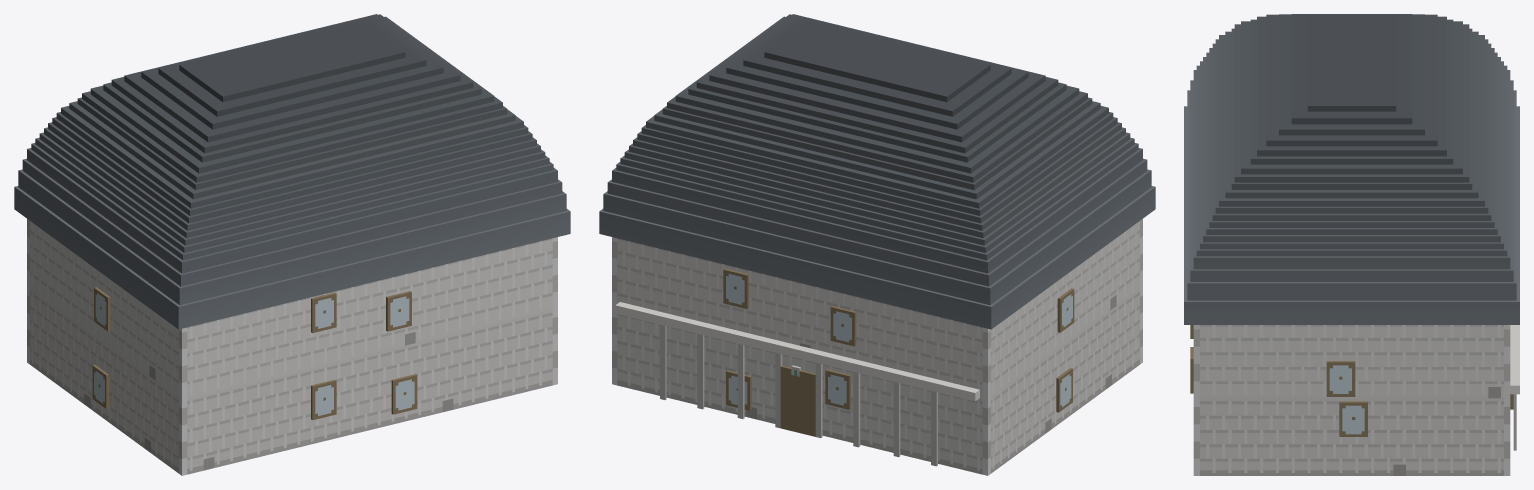
File: ayuntamiento_01.glb
3 views of the same model, side by side, from view 1: azimuth 30°, elevation 25°; view 2: azimuth 150°, elevation 25°; view 3: azimuth 270°, elevation 25° (orthographic). The views are drawn at different scales.
Visible parts, largest first — view 1: ayuntamiento_01; view 2: ayuntamiento_01; view 3: ayuntamiento_01.
Part boxes in pixels (x1,y1,x2,y2): ayuntamiento_01: [14, 14, 570, 475]; ayuntamiento_01: [599, 14, 1155, 475]; ayuntamiento_01: [1184, 14, 1519, 475].
Size of the model in its own units: 14.6 by 11.2 by 10.6.
